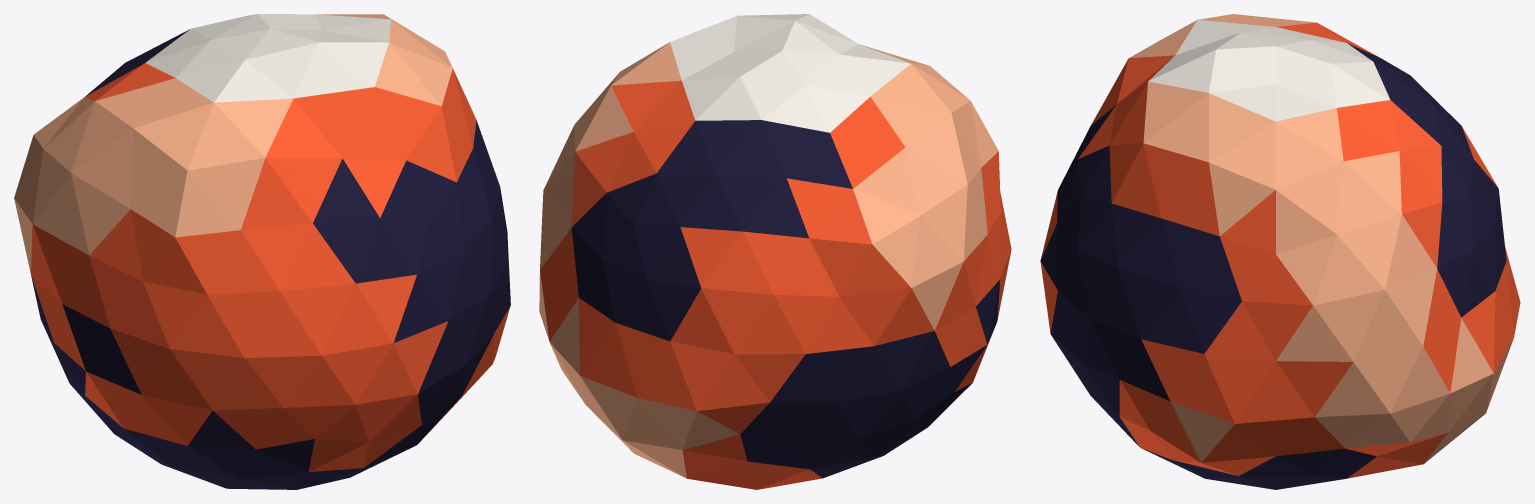
The model's file is espacio.glb.
3 views of the same model, side by side, from view 1: azimuth 30°, elevation 25°; view 2: azimuth 150°, elevation 25°; view 3: azimuth 270°, elevation 25° (orthographic). The views are drawn at different scales.
Visible parts, largest first — view 1: Planeta; view 2: Planeta; view 3: Planeta.
Boxes of the visible parts, x1=… form: Planeta: x1=14, y1=14, x2=510, y2=489; Planeta: x1=539, y1=14, x2=1011, y2=489; Planeta: x1=1040, y1=14, x2=1520, y2=489.
Bounding box in the file's own units: 3.35 × 3.29 × 3.35.
